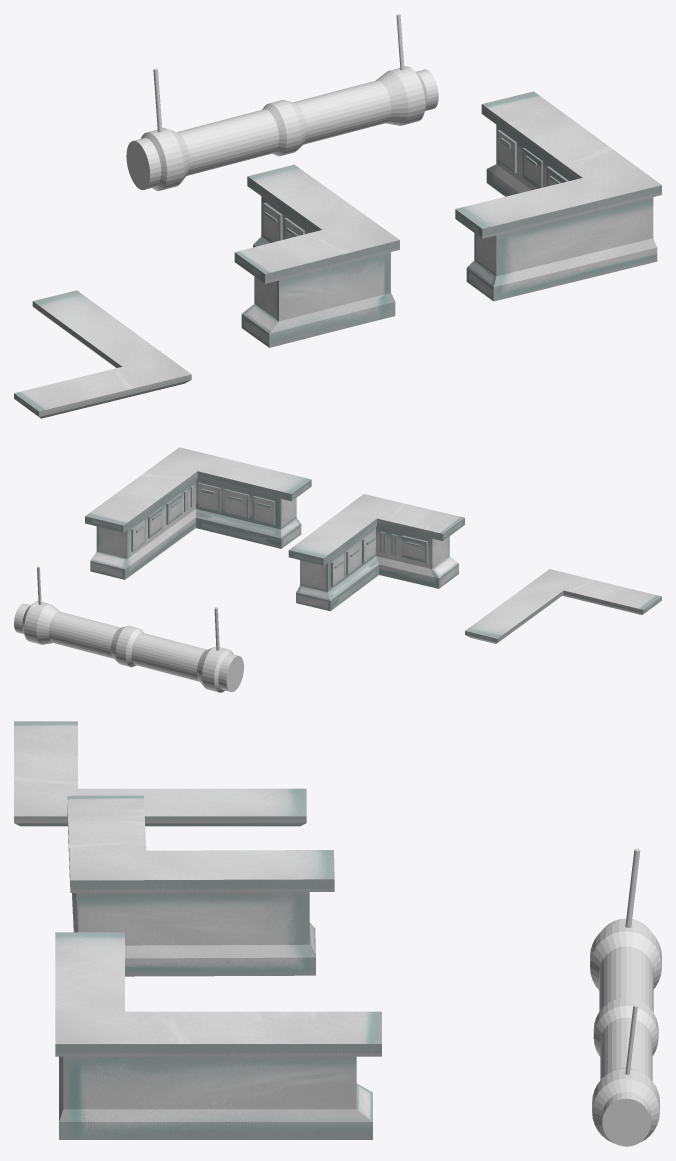
The model's file is elements_prefabs.fbx.
3 views of the same model, one above another, from view 1: azimuth 30°, elevation 25°; view 2: azimuth 150°, elevation 25°; view 3: azimuth 270°, elevation 25° (orthographic). The views are drawn at different scales.
Parts seen in each view (by area): view 1: counterbetter, counterbetter.003, Cylinder, counter base.003; view 2: counterbetter, counterbetter.003, Cylinder, counter base.003; view 3: counterbetter, counterbetter.003, Cylinder, counter base.003.
Boxes of the visible parts, x1=… form: counterbetter: x1=455, y1=91, x2=661, y2=301; counterbetter.003: x1=234, y1=164, x2=399, y2=347; Cylinder: x1=126, y1=14, x2=438, y2=190; counter base.003: x1=14, y1=290, x2=191, y2=418; counterbetter: x1=85, y1=447, x2=311, y2=579; counterbetter.003: x1=288, y1=494, x2=464, y2=611; Cylinder: x1=14, y1=566, x2=243, y2=692; counter base.003: x1=465, y1=569, x2=661, y2=643; counterbetter: x1=55, y1=932, x2=381, y2=1139; counterbetter.003: x1=67, y1=795, x2=334, y2=976; Cylinder: x1=590, y1=848, x2=661, y2=1146; counter base.003: x1=14, y1=721, x2=306, y2=826.
Bounding box in the file's own units: 2888 × 498 × 1989.
